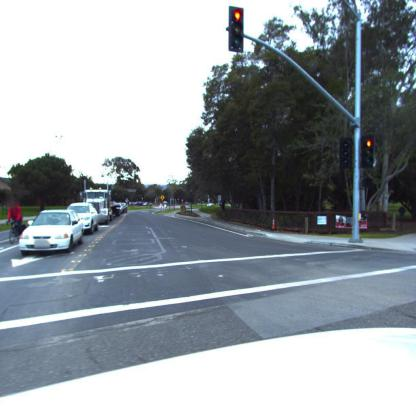car: (19, 210, 84, 257), (66, 202, 103, 236), (111, 203, 128, 217)
person: (7, 204, 24, 242)
traffic light: (228, 7, 244, 51), (363, 134, 377, 168), (339, 139, 352, 171)
truck: (85, 190, 111, 220)
